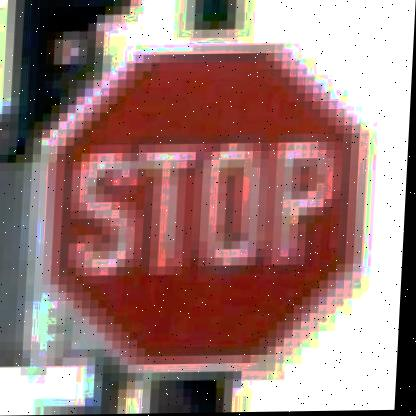Stop Sign: (23, 38, 376, 378)
